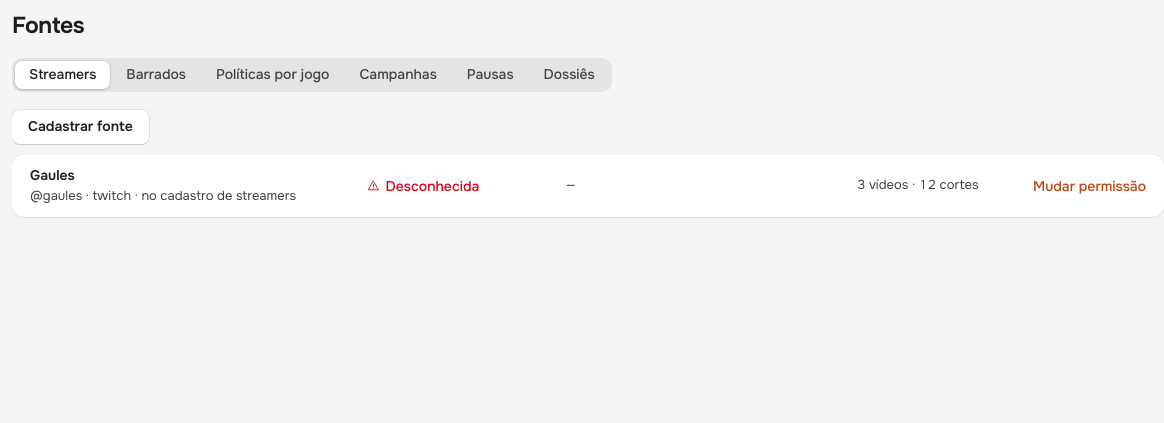
Fontes › liberar sem base nem evidência é barrado no formulário (C1) e não chega ao backend
This screenshot has width=1164, height=423.
Click the button "Mudar permissão".
click(1090, 186)  # box [1033,176,1146,196]
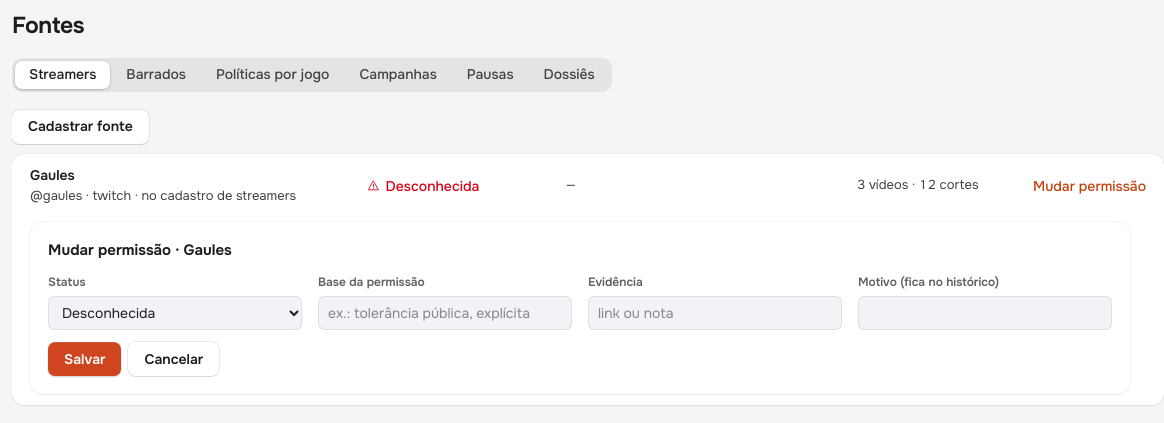
Select "Liberada" in the dropdown labelled "Status" at (175, 313), box [48,296,302,330]
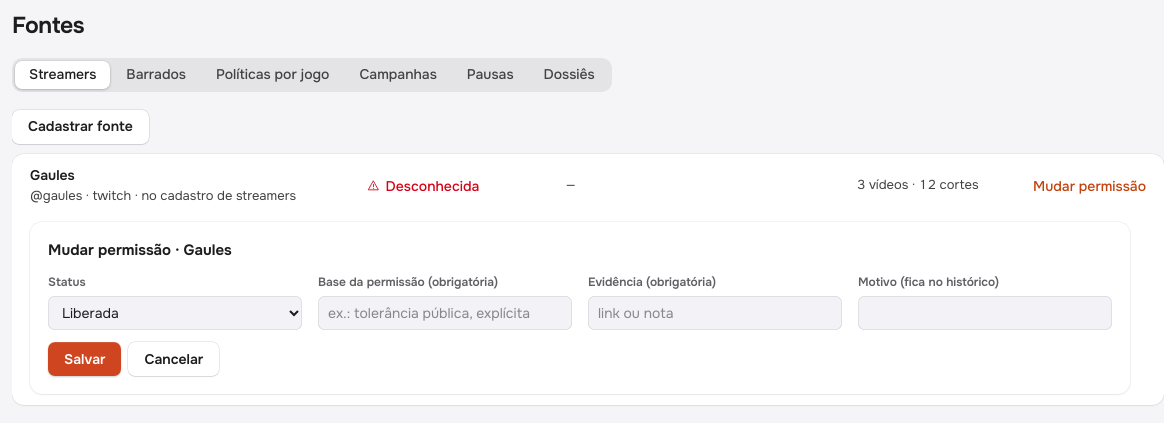
Type "acordo" into the field labelled "Motivo (fica no histórico)".
click(985, 313); type("acordo")  # box [858,296,1112,330]
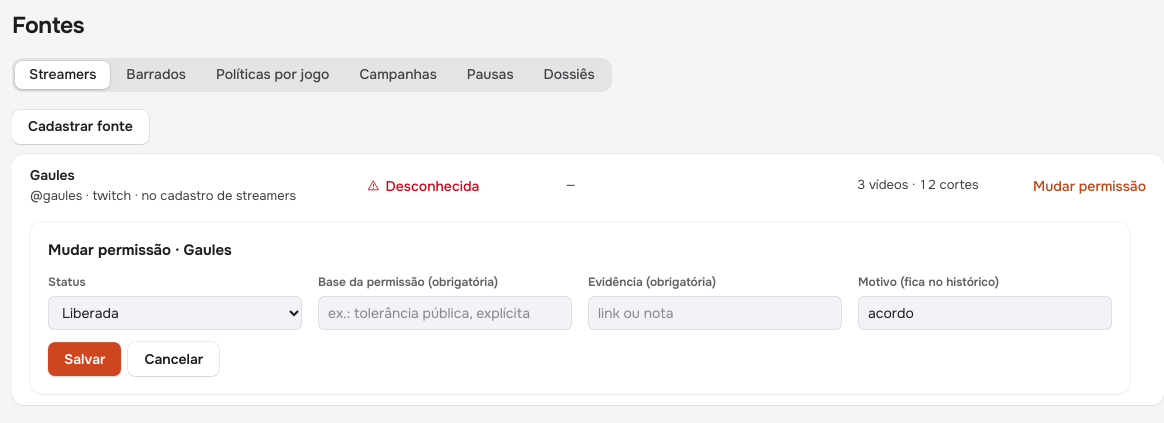
Click the button "Salvar".
click(85, 359)  # box [48,342,121,376]
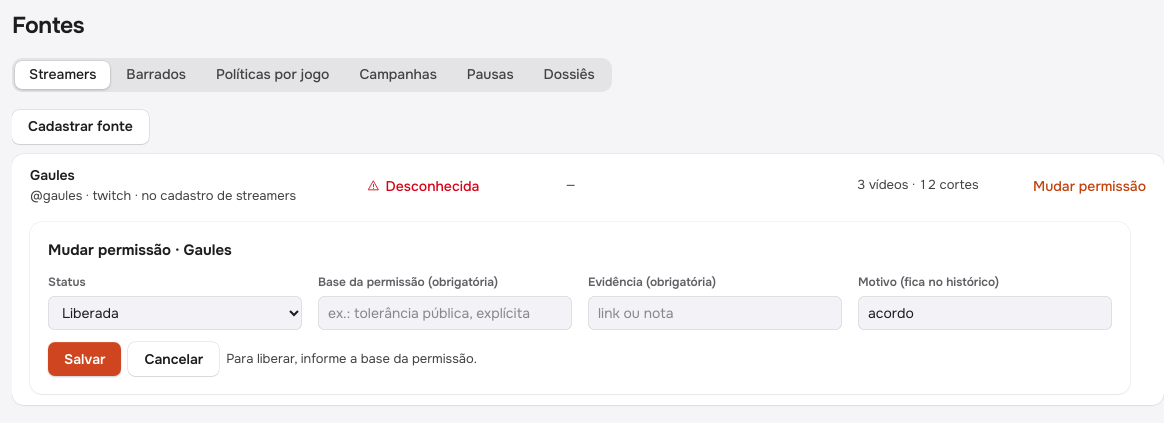
Now the message shows "base da permissão", box [226,350,477,367]
